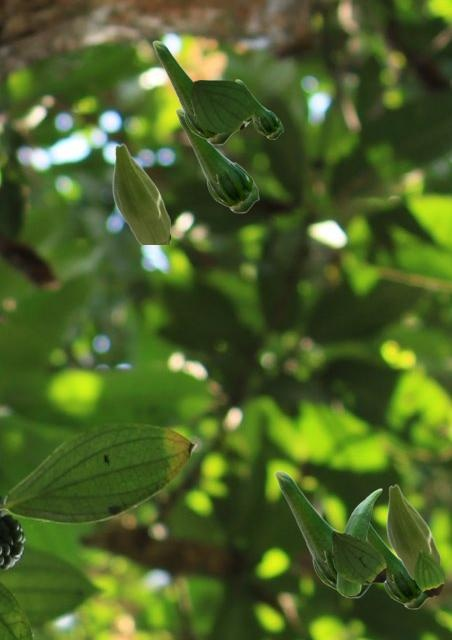okra: (274, 470, 372, 597), (175, 108, 258, 212), (152, 40, 235, 144), (112, 143, 169, 243), (367, 523, 429, 608), (386, 484, 439, 578), (336, 488, 381, 594), (235, 79, 282, 138)
